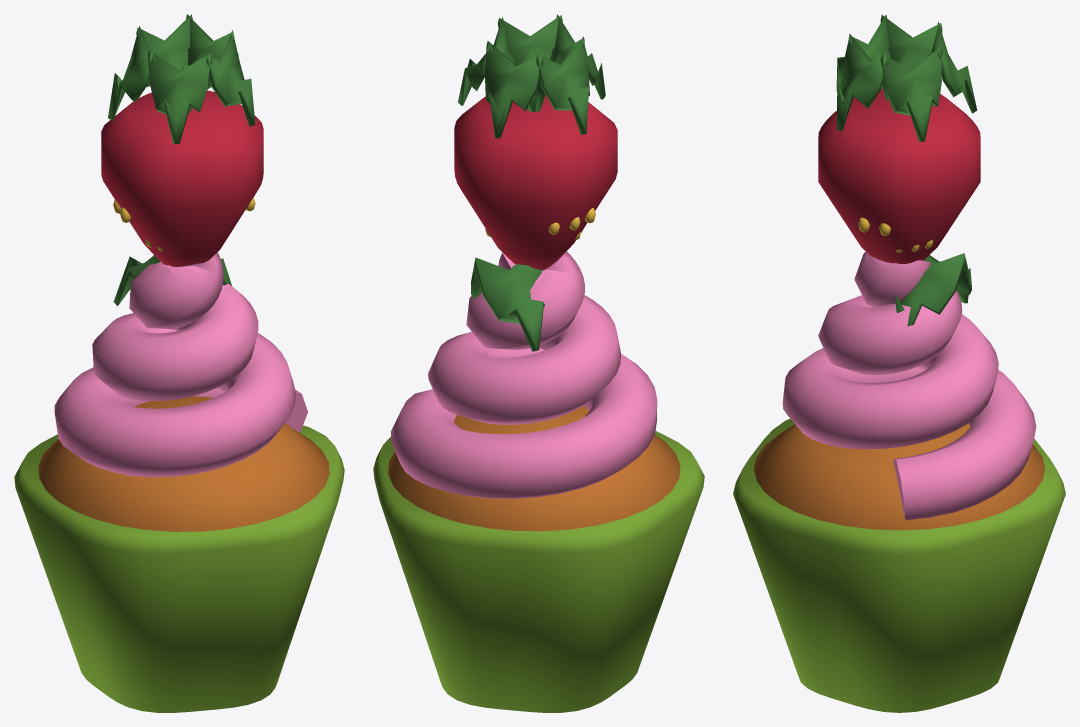
Rendered from strawberry-cinnamon-cilantro-cupcake.glb.
The picture shows the model from 3 angles, left to right: view 1: azimuth 30°, elevation 25°; view 2: azimuth 150°, elevation 25°; view 3: azimuth 270°, elevation 25°; orthographic projection.
Visible parts, largest first — view 1: container_paper.001, edible_frosting.001, edible_strawberry.001, edible_cake.001, edible_calyx.007, edible_calyx.008, edible_calyx.006, edible_calyx.005, edible_calyx.009, edible_cilantro; view 2: container_paper.001, edible_frosting.001, edible_strawberry.001, edible_cake.001, edible_cilantro, edible_calyx.005, edible_calyx.006, edible_calyx.008, edible_calyx.007, edible_calyx.009; view 3: container_paper.001, edible_frosting.001, edible_strawberry.001, edible_cake.001, edible_calyx.009, edible_cilantro, edible_calyx.008, edible_calyx.006, edible_calyx.005, edible_calyx.007.
Part boxes in pixels (<box>): container_paper.001: <box>14,425,344,712</box>; edible_frosting.001: <box>54,252,307,477</box>; edible_strawberry.001: <box>101,90,263,266</box>; edible_cake.001: <box>38,396,329,531</box>; edible_calyx.007: <box>147,50,212,143</box>; edible_calyx.008: <box>188,30,255,126</box>; edible_calyx.006: <box>108,26,154,120</box>; edible_calyx.005: <box>136,14,192,86</box>; edible_calyx.009: <box>181,14,238,83</box>; edible_cilantro: <box>113,255,231,305</box>; container_paper.001: <box>373,431,704,712</box>; edible_frosting.001: <box>391,251,657,498</box>; edible_strawberry.001: <box>454,95,617,269</box>; edible_cake.001: <box>388,405,680,531</box>; edible_cilantro: <box>471,257,544,351</box>; edible_calyx.005: <box>485,41,543,138</box>; edible_calyx.006: <box>533,36,589,134</box>; edible_calyx.008: <box>498,15,562,65</box>; edible_calyx.007: <box>550,14,605,99</box>; edible_calyx.009: <box>458,17,528,109</box>; container_paper.001: <box>733,418,1065,712</box>; edible_frosting.001: <box>782,251,1036,520</box>; edible_strawberry.001: <box>818,88,980,263</box>; edible_cake.001: <box>754,423,1044,530</box>; edible_calyx.009: <box>880,46,942,141</box>; edible_cilantro: <box>895,253,971,326</box>; edible_calyx.008: <box>836,33,895,131</box>; edible_calyx.006: <box>880,15,942,69</box>; edible_calyx.005: <box>908,21,977,113</box>; edible_calyx.007: <box>836,14,892,108</box>.
Bounding box in the file's own units: 0.1053 × 0.225 × 0.1069.
